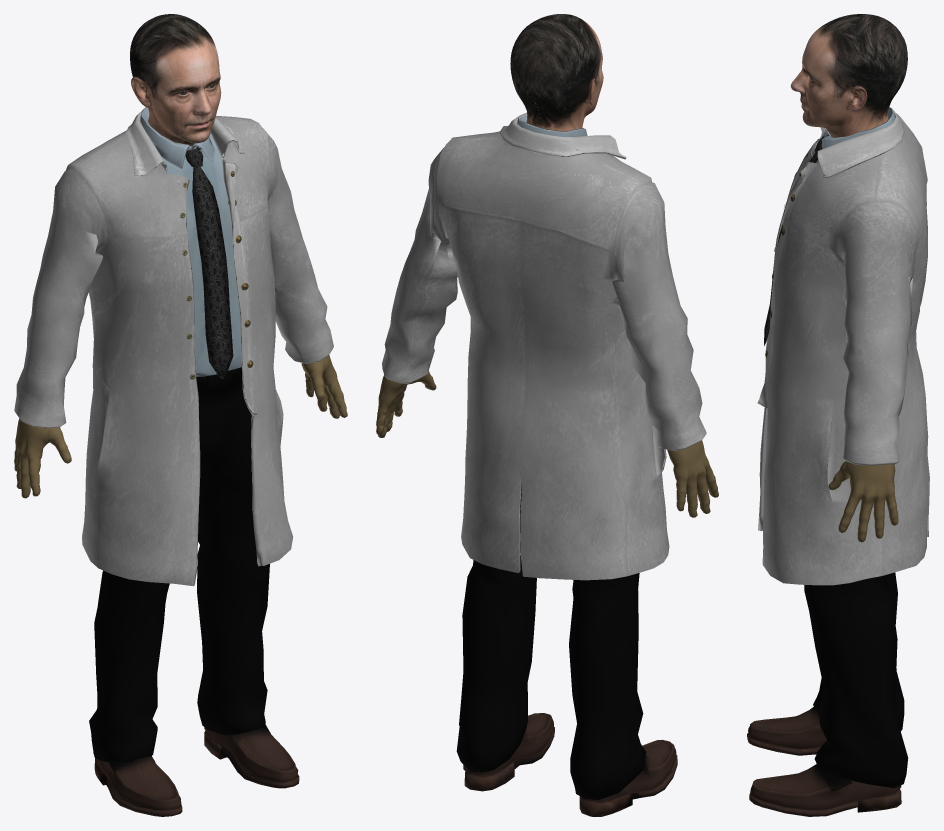
File: baldmanindoctoruniform.glb
3 renders of one model, left to right at view 1: azimuth 30°, elevation 25°; view 2: azimuth 150°, elevation 25°; view 3: azimuth 270°, elevation 25°, orthographic. The views are drawn at different scales.
Parts seen in each view (by area): view 1: body, legs, head; view 2: body, legs, head; view 3: body, legs, head.
Boxes of the visible parts, x1,y1,x2,y2 form: body: (14,107,347,586); legs: (89,367,299,816); head: (130,14,221,145); body: (376,112,718,580); legs: (456,483,677,816); head: (510,14,603,131); body: (757,107,929,585); legs: (747,572,908,816); head: (790,14,907,137).
Size of the model in its own units: 0.705 by 1.59 by 0.3477.
Materials: 5 (3 with a texture image).
